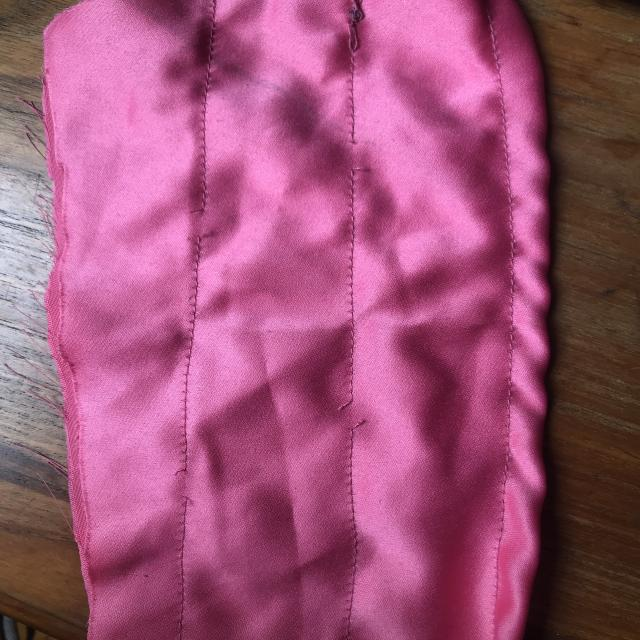broken: (159, 456, 211, 520), (330, 132, 385, 187), (324, 392, 376, 441), (176, 194, 215, 254)
good: (334, 241, 377, 324)
